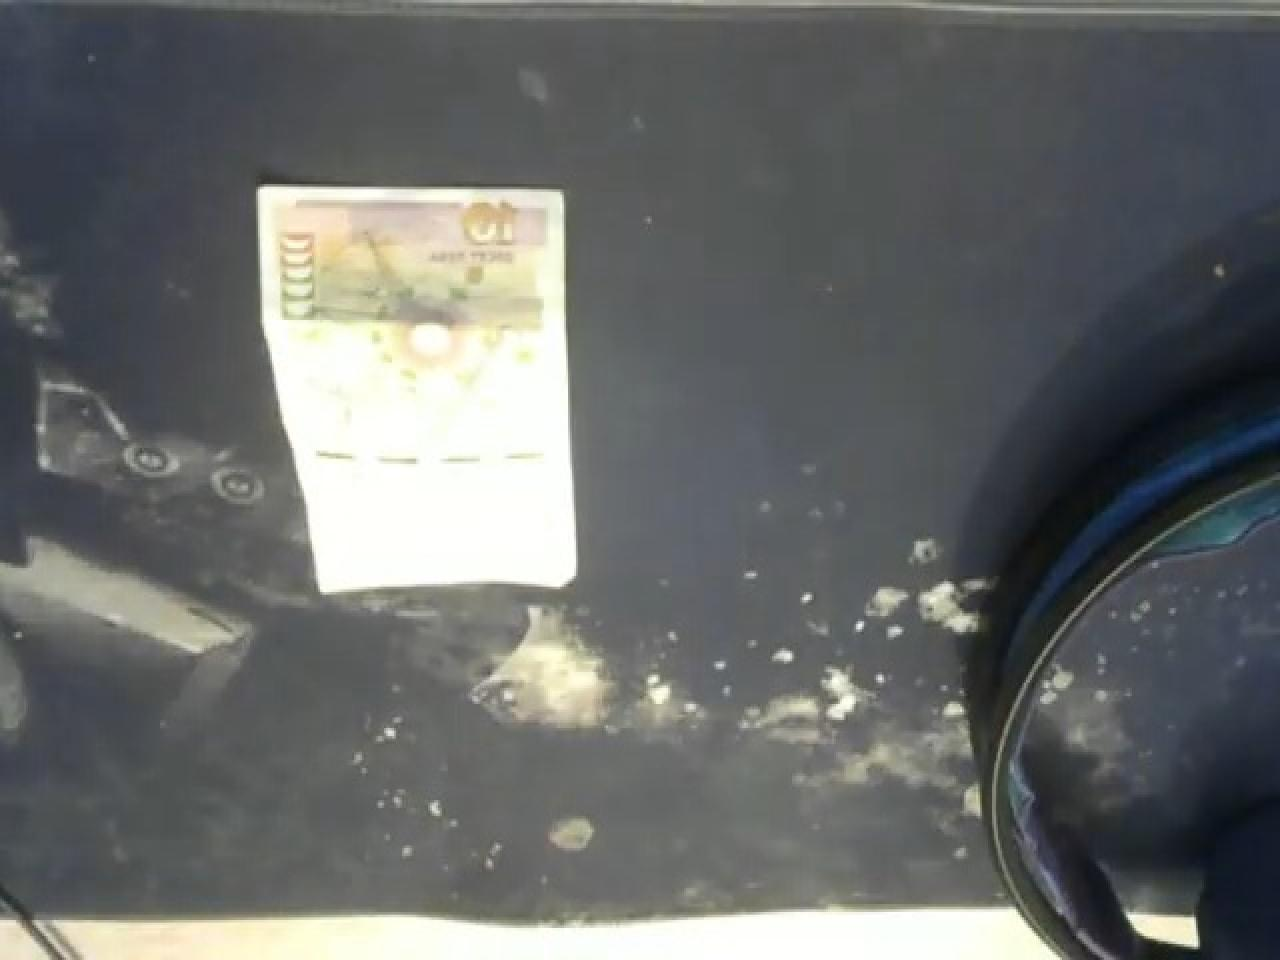10leva: (254, 182, 578, 598)
